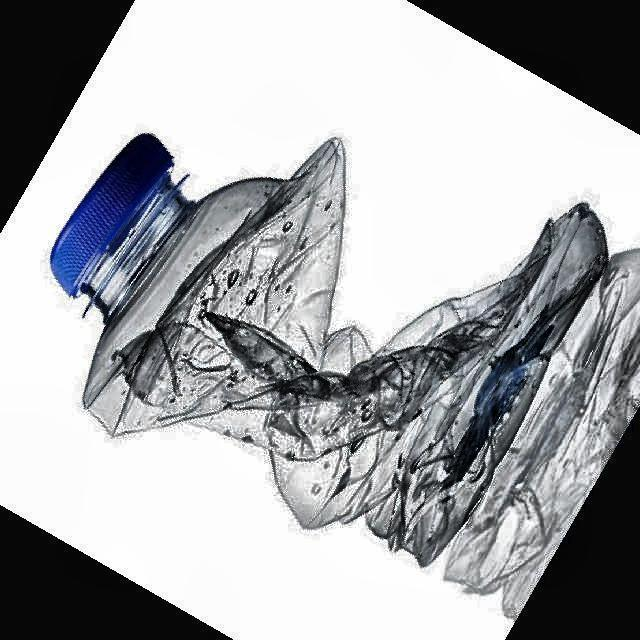plastic: (51, 134, 616, 565)
